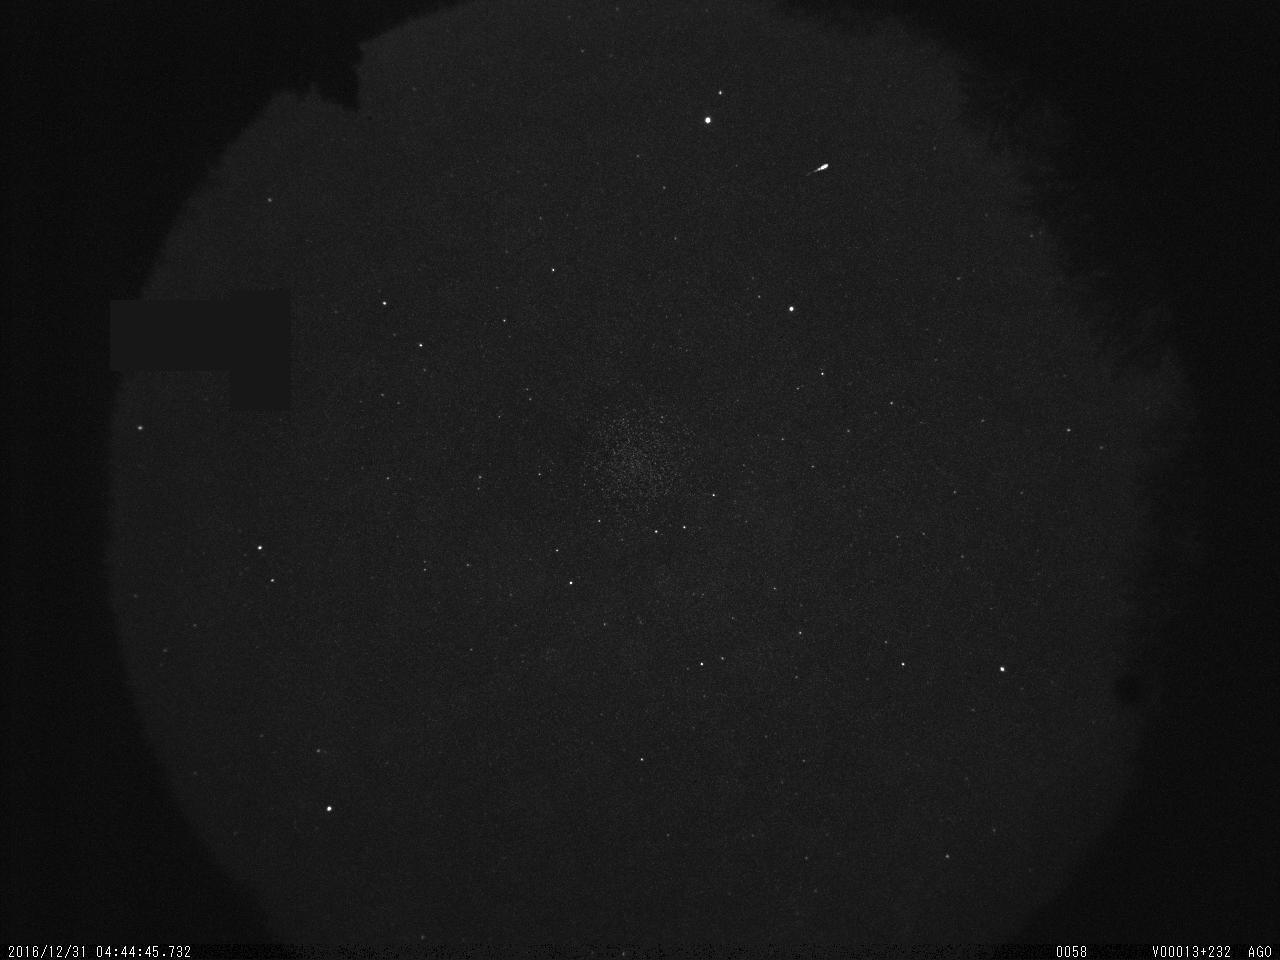meteor: (803, 162, 830, 182)
